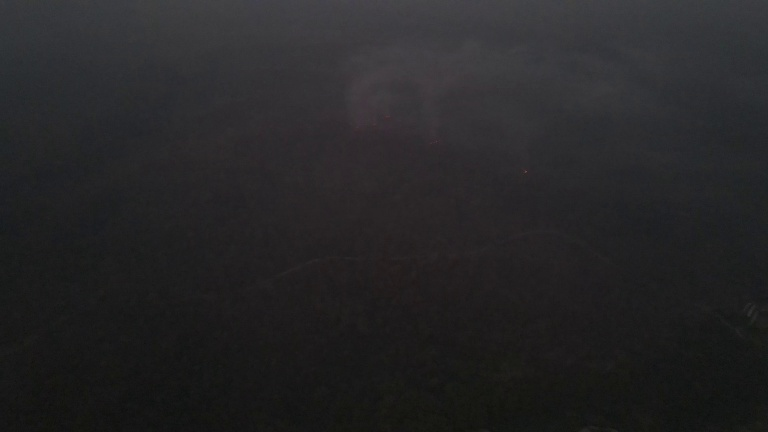fire: (522, 170, 531, 179)
smoke: (341, 46, 569, 157)
